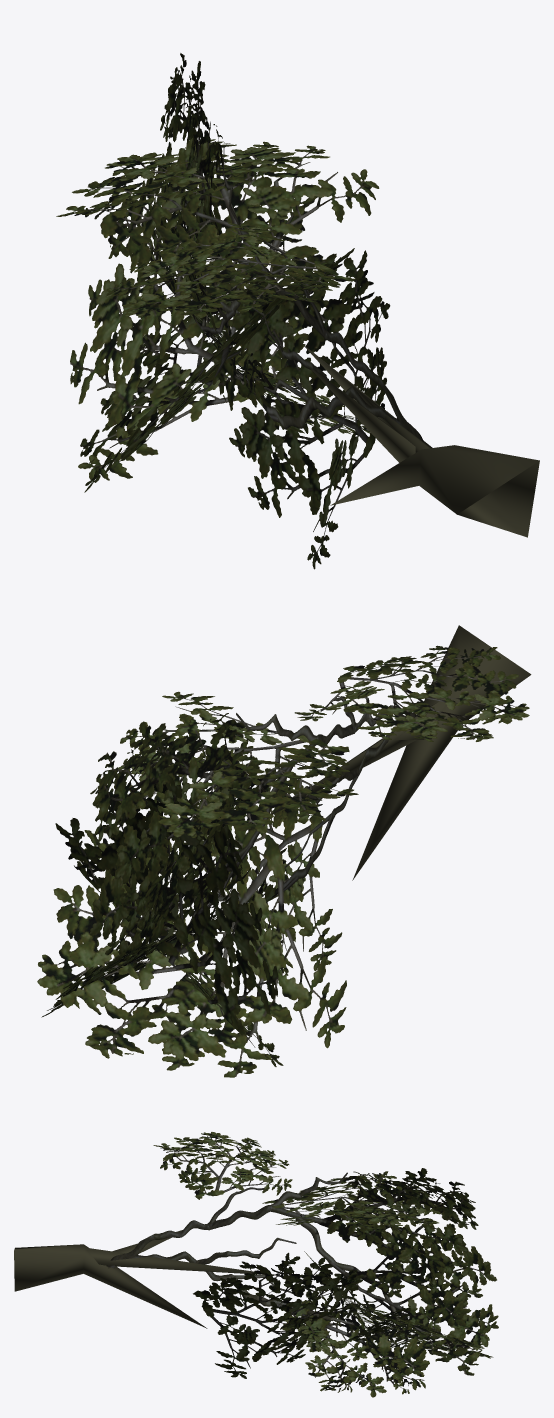
The model's file is MEP_Oak_05_LOD_02.fbx.
3 renders of one model, top to bottom at view 1: azimuth 30°, elevation 25°; view 2: azimuth 150°, elevation 25°; view 3: azimuth 270°, elevation 25°, orthographic. The views are drawn at different scales.
Visible parts, largest first — view 1: MEP_Oak_05_LOD_02; view 2: MEP_Oak_05_LOD_02; view 3: MEP_Oak_05_LOD_02.
Part boxes in pixels (x1=…): MEP_Oak_05_LOD_02: x1=56, y1=53, x2=539, y2=569; MEP_Oak_05_LOD_02: x1=37, y1=625, x2=531, y2=1077; MEP_Oak_05_LOD_02: x1=14, y1=1132, x2=498, y2=1397.
Bounding box in the file's own units: 12.81 × 11.65 × 22.02.
